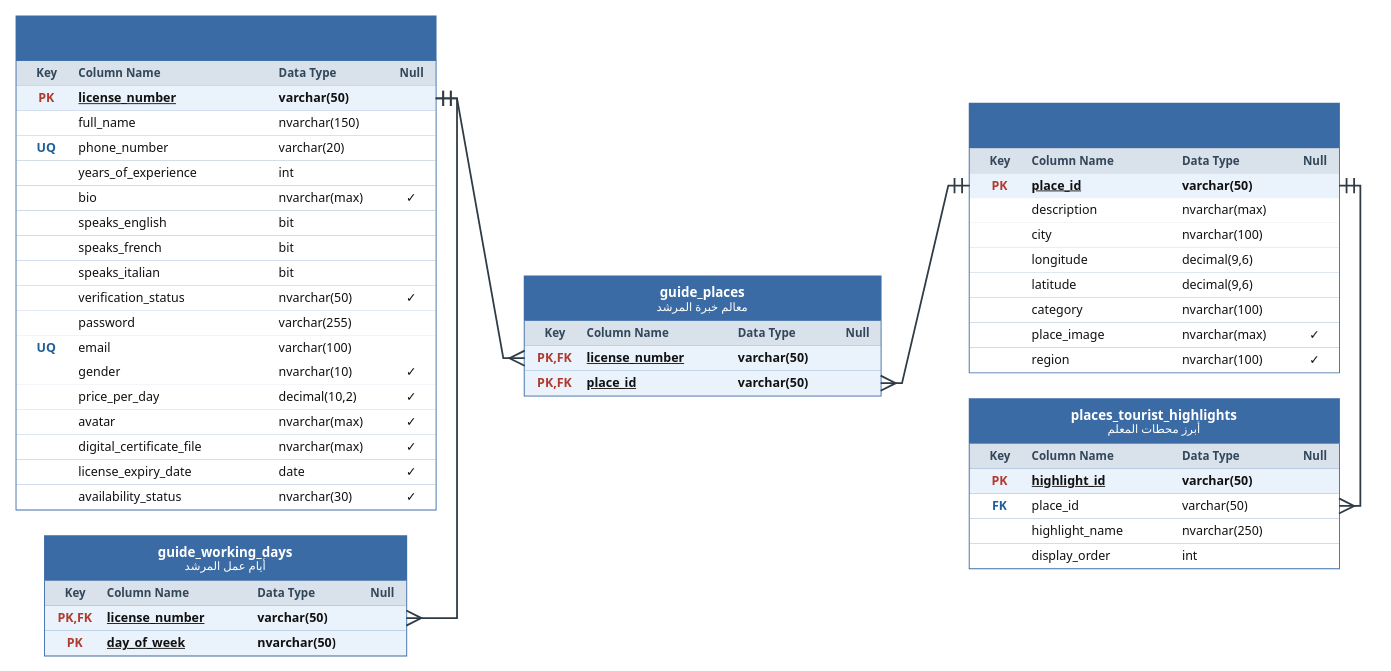
Image size: 1391x671. Some labels were removed from this diagram. The box of each missing label's shape, as (x1, y1, x2, y2) in pixels:
places_tourist المعالم السياحية: (968, 102, 1339, 373)
tour_guides المرشدون السياحيون: (15, 15, 436, 510)
